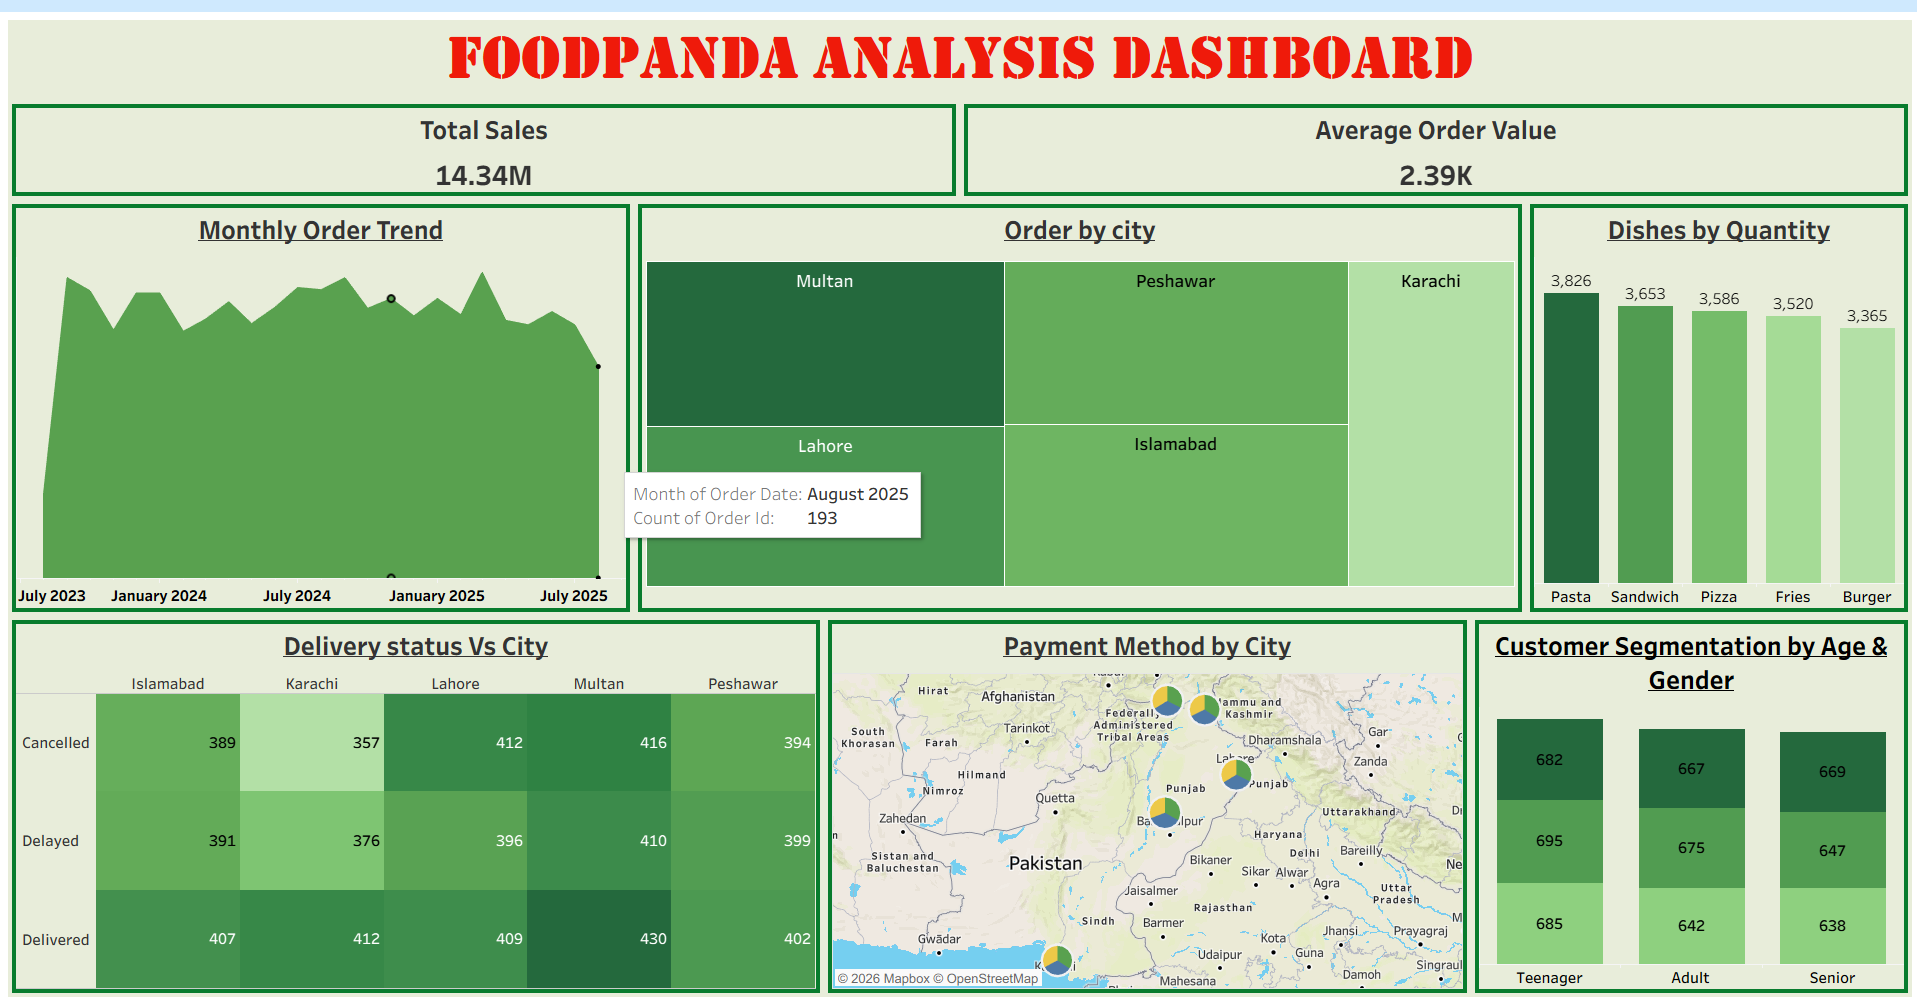

This screenshot's page, from the dashboard's own definition file:
{"tool":"tableau","page":{"name":"Dashboard 1","canvas":[1000,1000],"units":"permille","ordinal":0},"visuals":[{"type":"title","box":[4.8,10,990.3,100]},{"type":"worksheet","title":"Sheet 24","mark":"Automatic","box":[4.8,110,495.2,140]},{"type":"worksheet","title":"Sheet 25","mark":"Automatic","box":[500,110,495.2,140]},{"type":"worksheet","title":"Sheet 11","mark":"Area","rows":["order_id"],"cols":["order_date"],"box":[4.8,250,377.8,351.2]},{"type":"worksheet","title":"Sheet 12","mark":"Automatic","box":[382.6,250,366.9,351.2]},{"type":"worksheet","title":"Sheet 8","mark":"Automatic","rows":["quantity"],"cols":["dish_name"],"box":[749.5,250,245.6,351.2]},{"type":"worksheet","title":"Sheet 13","mark":"Square","rows":["delivery_status"],"cols":["city"],"box":[4.8,601.2,393.2,388.8]},{"type":"worksheet","title":"Sheet 16","mark":"Pie","box":[398.1,601.2,390.5,388.8]},{"type":"worksheet","title":"Sheet 18","mark":"Automatic","rows":["customer_id"],"cols":["age"],"box":[788.5,601.2,206.6,388.8]}]}

Visuals, with their boxes on the dashboard's canvas, which has no fixed pixel size, in thousandths of its width and height (x1, y1, x2, y2). These are canvas units, not pixel positions in the 1917x1004 screenshot, which may show the page scaled, cropped or inside an application window:
title: bbox(5, 10, 995, 110)
"Sheet 24" worksheet: bbox(5, 110, 500, 250)
"Sheet 25" worksheet: bbox(500, 110, 995, 250)
"Sheet 11" worksheet (Area marks): bbox(5, 250, 383, 601)
"Sheet 12" worksheet: bbox(383, 250, 750, 601)
"Sheet 8" worksheet: bbox(750, 250, 995, 601)
"Sheet 13" worksheet (Square marks): bbox(5, 601, 398, 990)
"Sheet 16" worksheet (Pie marks): bbox(398, 601, 789, 990)
"Sheet 18" worksheet: bbox(788, 601, 995, 990)
